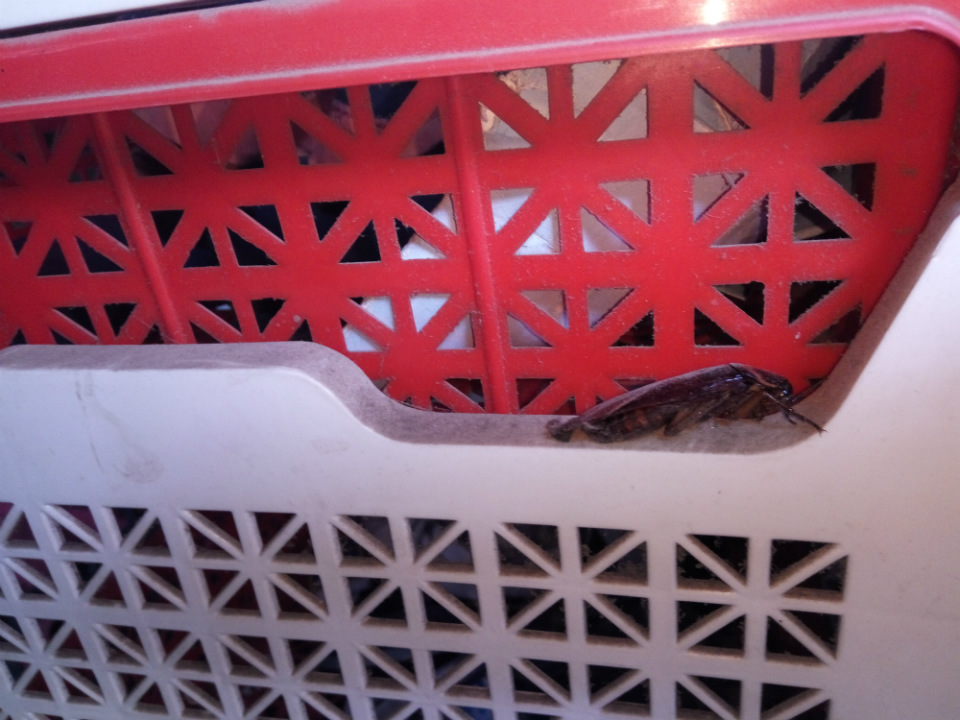cockroach: (502, 322, 836, 455)
